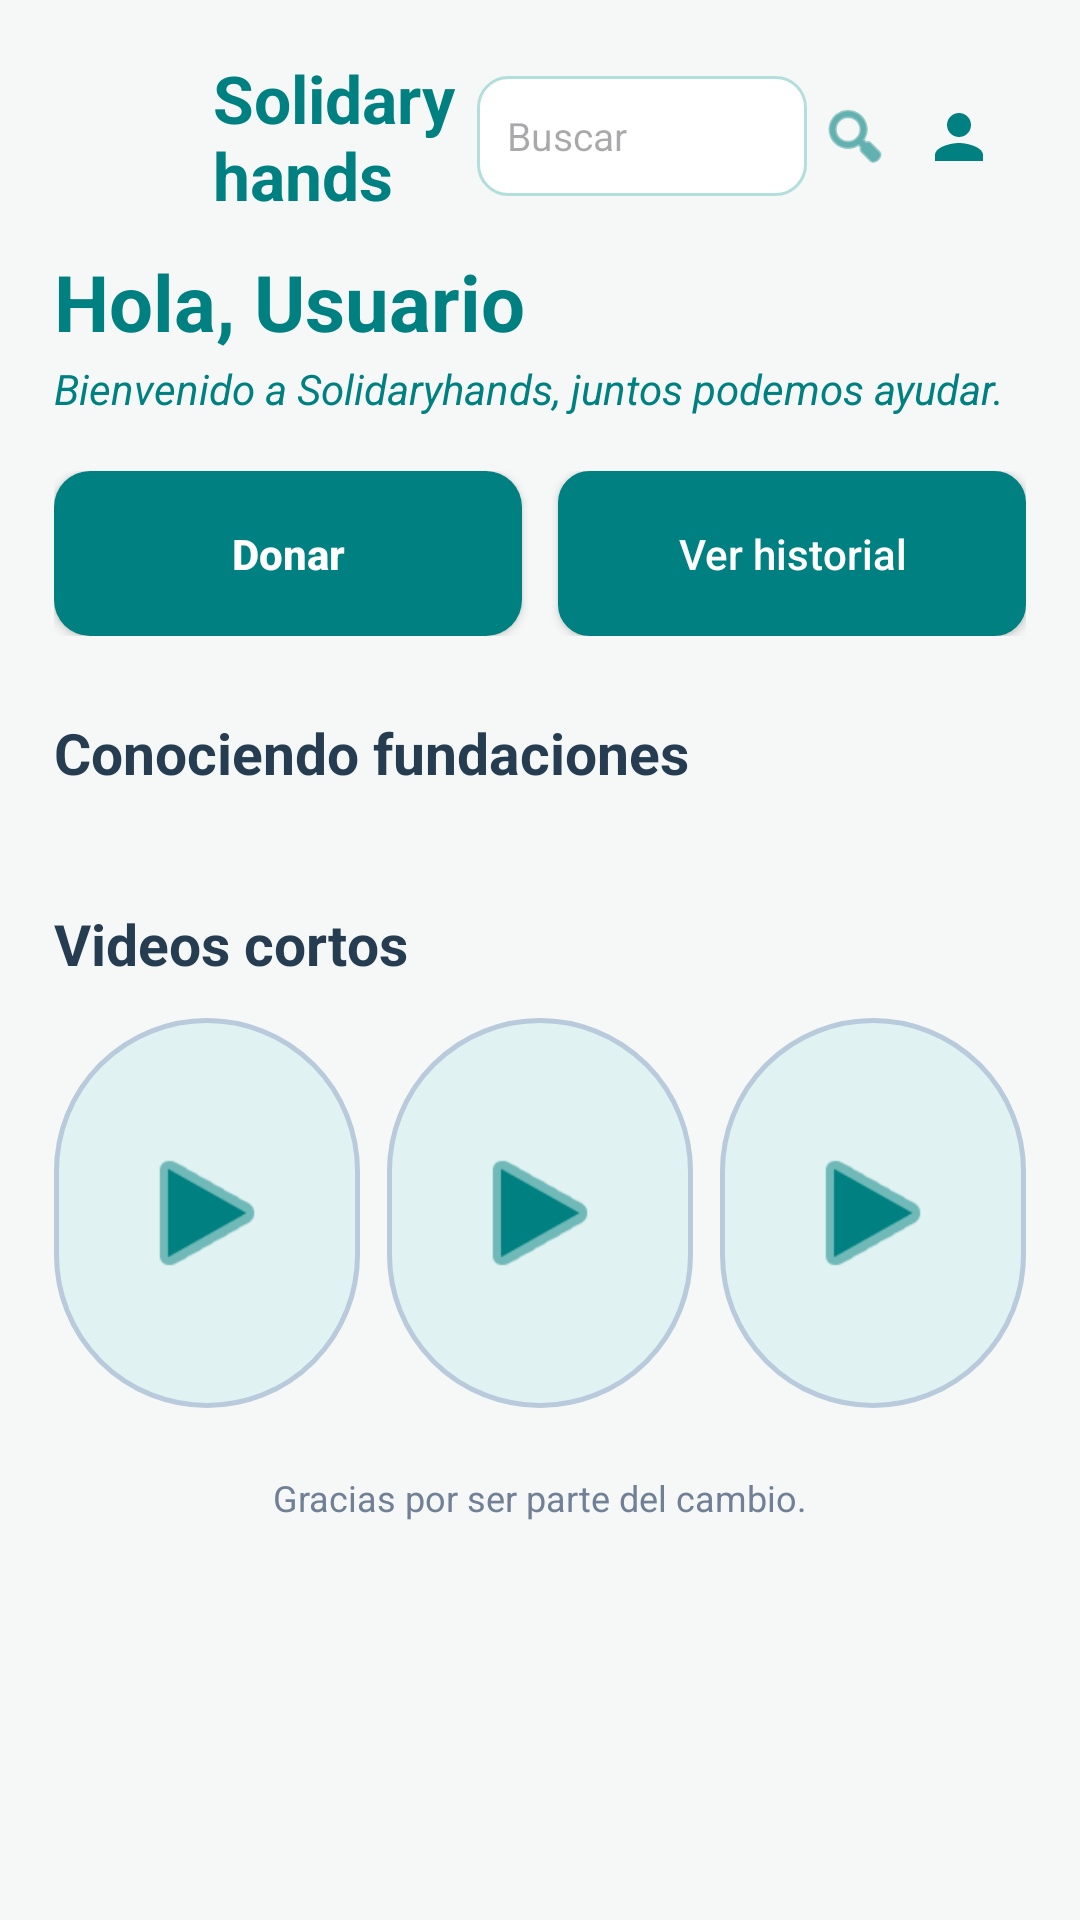

Locate icon controls on the screen. Image size 1080px×1920px, boxes as (x1, y1, x2, y2).
Mi perfil: (935, 113, 983, 161)
